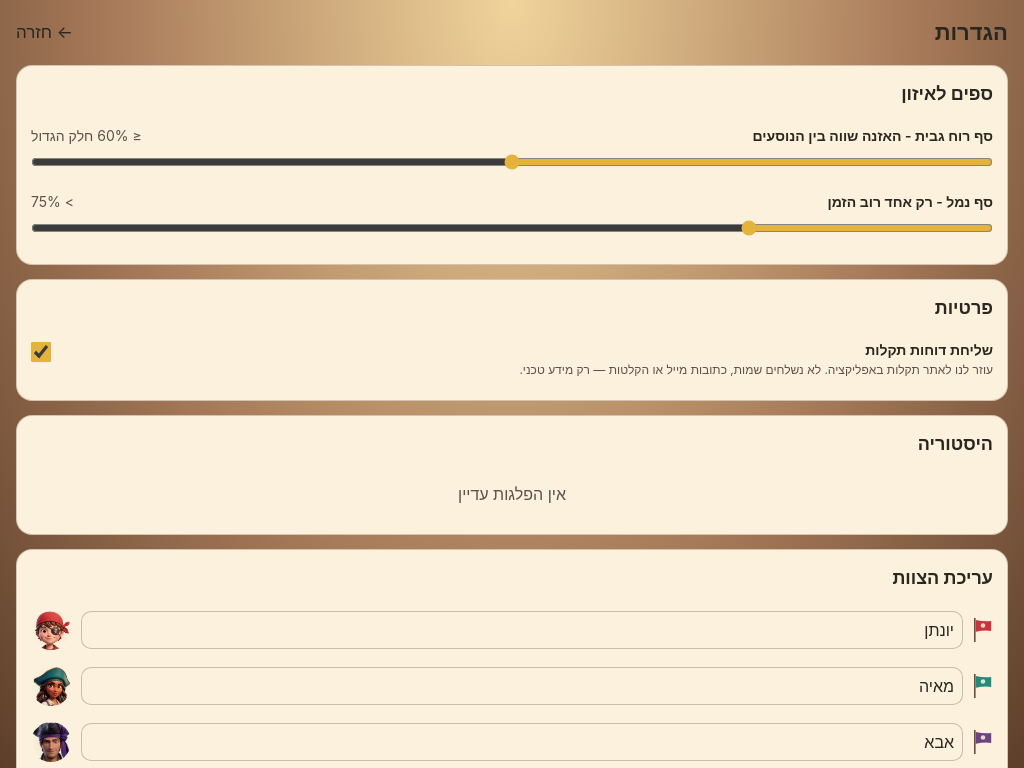
it: ScreenSettings — one save button for the whole screen › enables save when a threshold slider moves
Set the slider below "סף רוח גבית - האזנה שווה בין הנוסעים" to "0.65" at x=749, y=162, box left=31, top=154, right=993, bottom=170
(page scrolled)
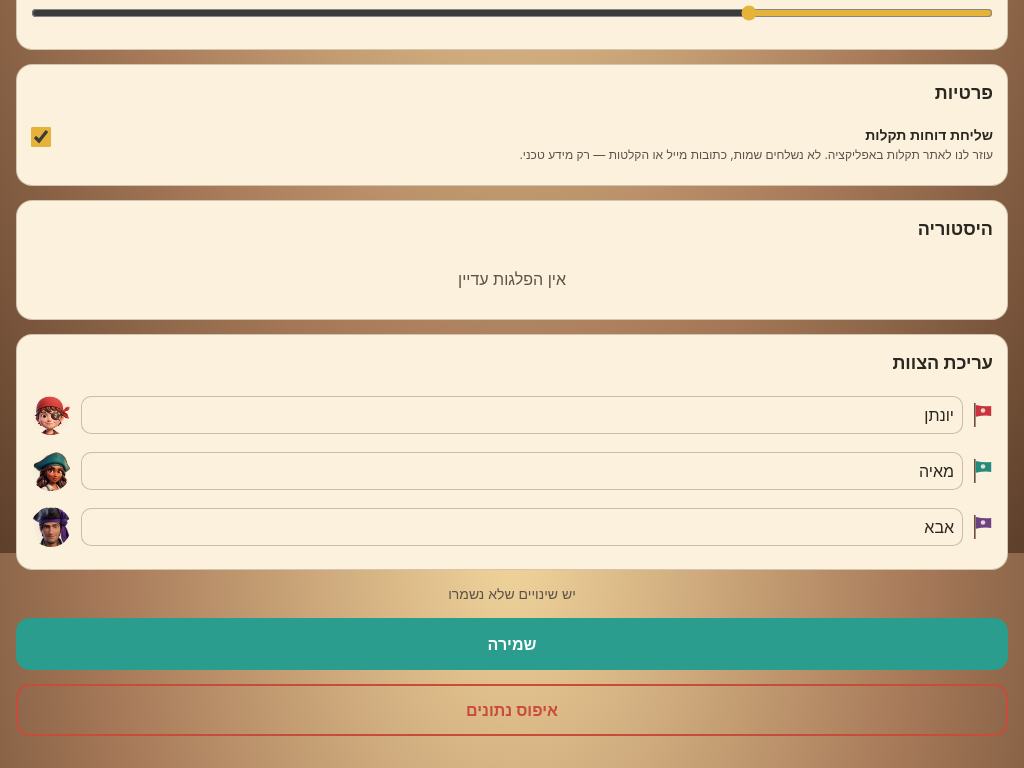
Expected: the button "שמירה" is enabled, left=16, top=618, right=1008, bottom=670
Expected: the text "יש שינויים שלא נשמרו" is shown, left=448, top=585, right=576, bottom=602
